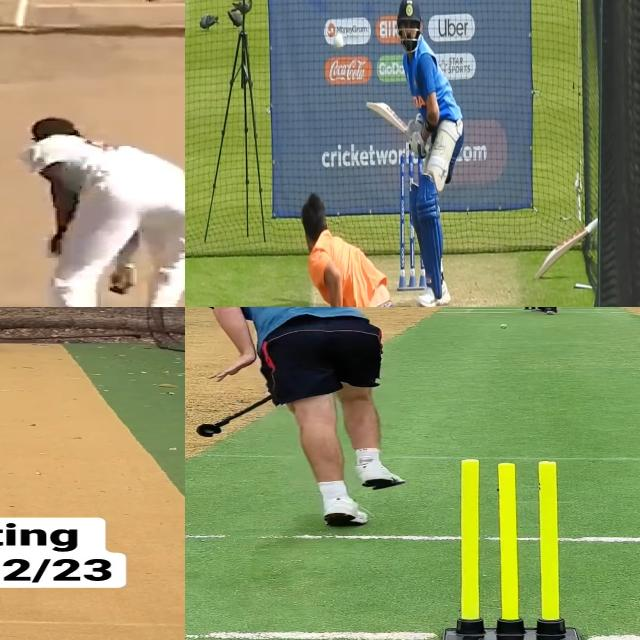Cricket ball: (333, 30, 347, 52), (497, 323, 511, 329), (139, 0, 166, 3)
Stumps: (440, 455, 591, 640), (398, 152, 426, 294)
